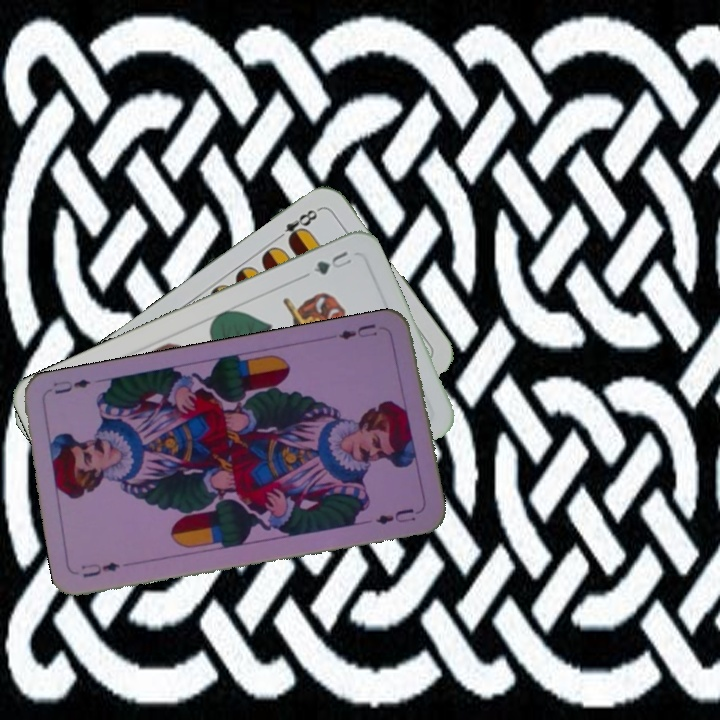E8: (271, 204, 323, 247)
EU: (334, 319, 380, 342), (77, 558, 123, 581)
GU: (309, 246, 355, 278)
